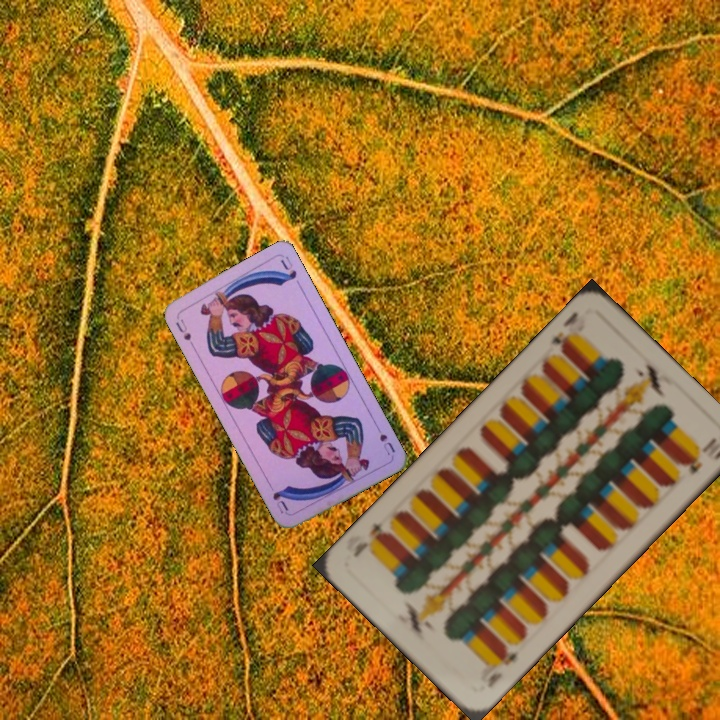E10: (483, 643, 520, 691), (546, 307, 581, 357)
SU: (371, 420, 398, 458), (172, 312, 197, 350)
